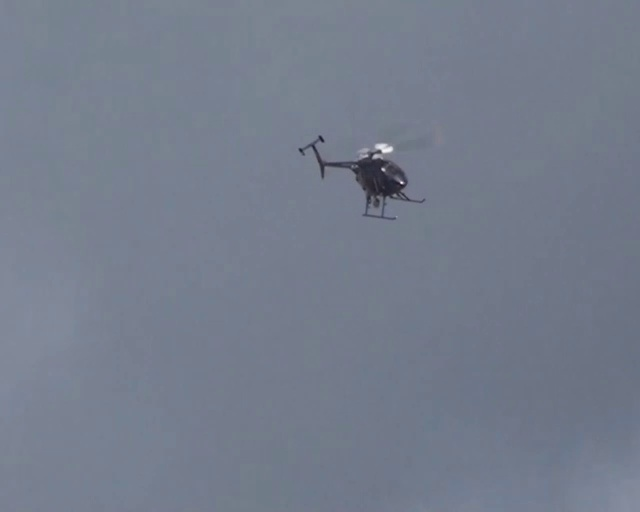HELICOPTER: (297, 132, 428, 220)
